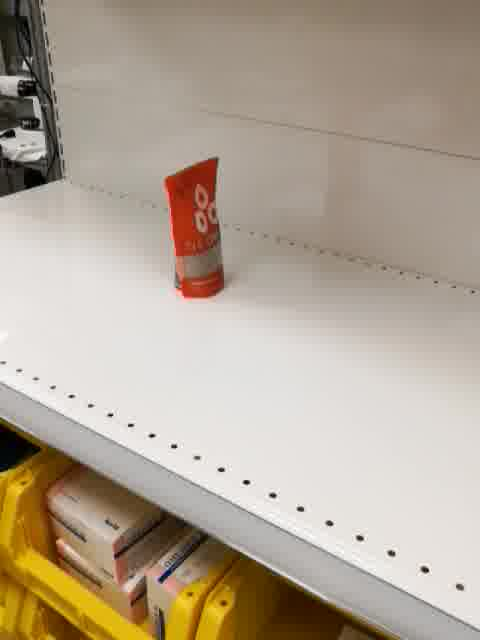whitechia: (162, 154, 227, 301)
